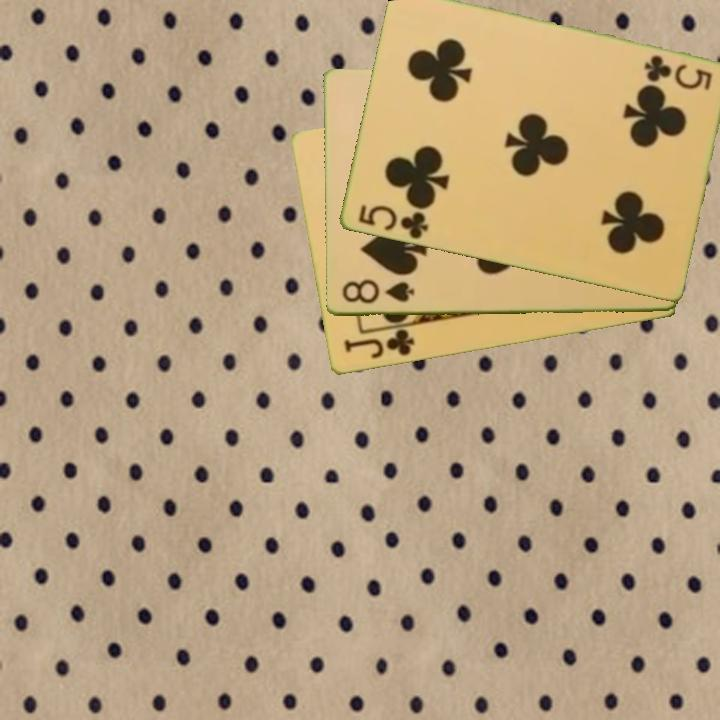5c: (354, 201, 431, 242), (639, 52, 715, 93)
8s: (339, 277, 417, 307)
Jc: (340, 326, 417, 363)
